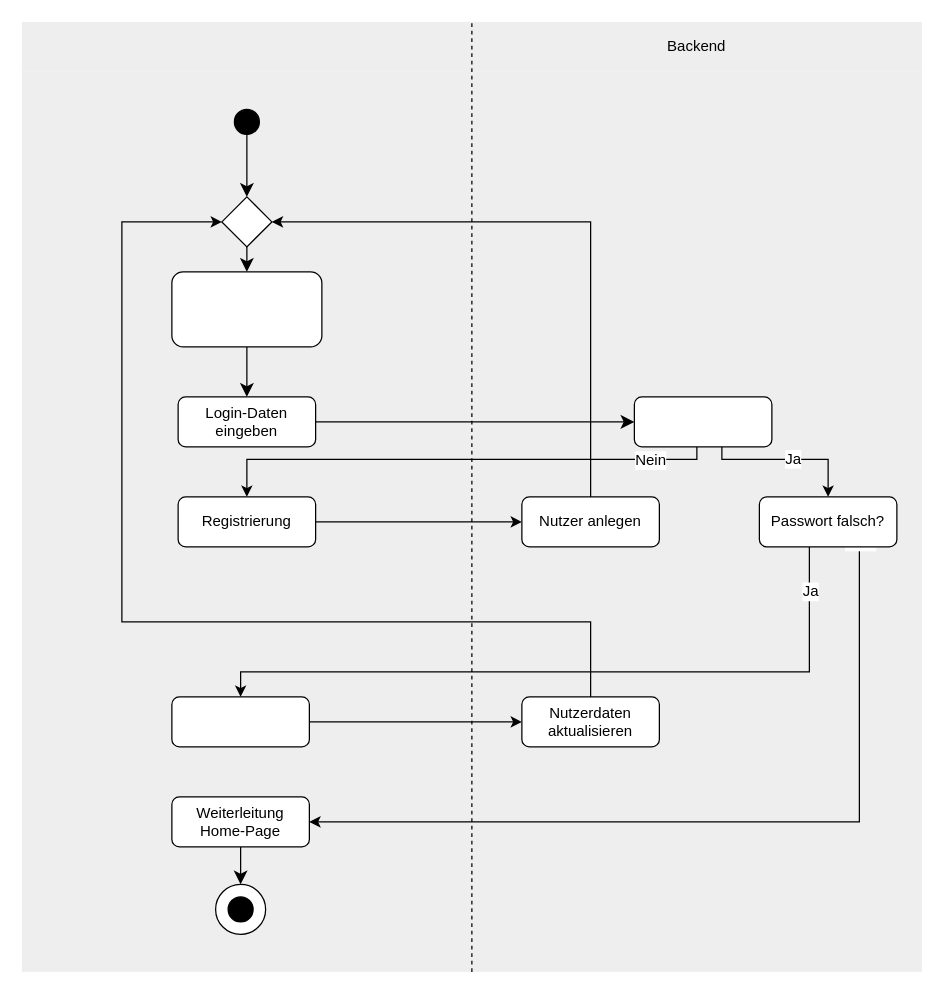
The diagram is 943 pixels wide and 995 high, and some of its shapes have lost their labels. The shapes that lost their labels are listed below. From the top down, each one's centre as x and y in pixels, then its label:
At point 246,46: "Frontend".
At point 246,309: "Login/Registerpage öffnen".
At point 702,421: "existiert Nutzer?".
At point 240,721: "Passwort zurücksetzen".
